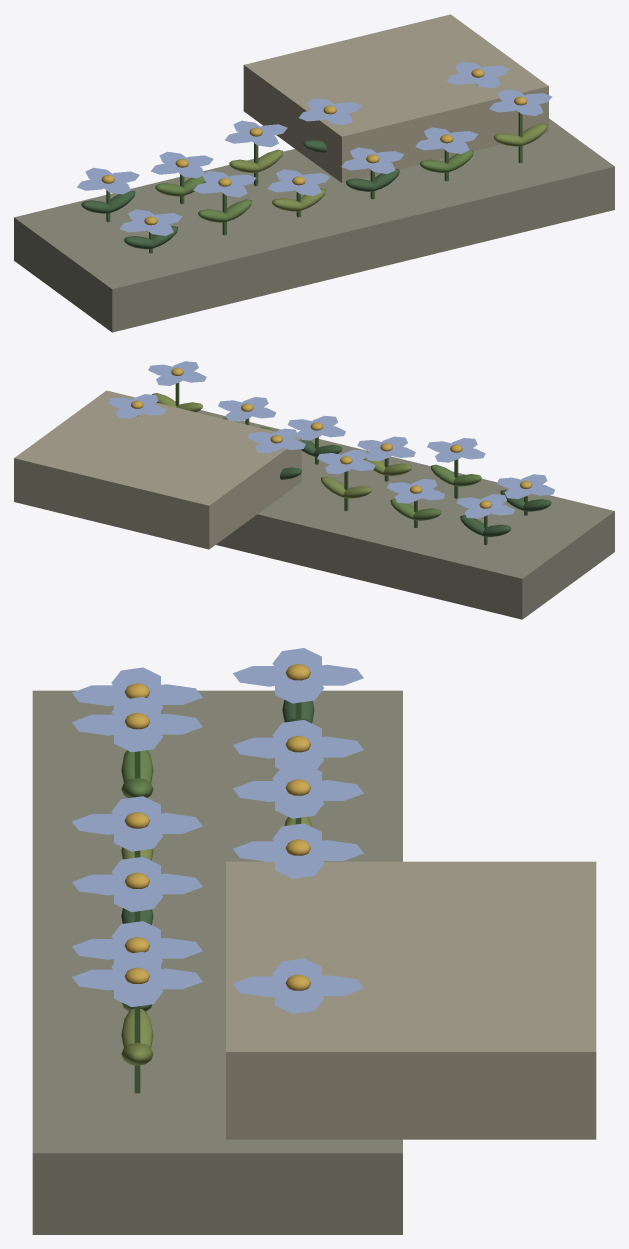
3 renders of one model, top to bottom at view 1: azimuth 30°, elevation 25°; view 2: azimuth 150°, elevation 25°; view 3: azimuth 270°, elevation 25°, orthographic. The views are drawn at different scales.
Parts seen in each view (by area): view 1: climb-flowers-3-0, climb-flowers-3-1, 화단 04; view 2: climb-flowers-3-0, climb-flowers-3-1, 화단 04; view 3: climb-flowers-3-0, climb-flowers-3-1, 화단 04.
Part boxes in pixels (<box>): climb-flowers-3-0: <box>14,118,614,332</box>; climb-flowers-3-1: <box>243,14,548,182</box>; 화단 04: <box>77,61,552,253</box>; climb-flowers-3-0: <box>196,410,614,619</box>; climb-flowers-3-1: <box>14,390,301,549</box>; 화단 04: <box>108,361,554,545</box>; climb-flowers-3-0: <box>32,690,402,1234</box>; climb-flowers-3-1: <box>226,861,596,1139</box>; 화단 04: <box>72,648,363,1093</box>.
Bounding box in the file's own units: 3.4 × 0.7007 × 1.75.
